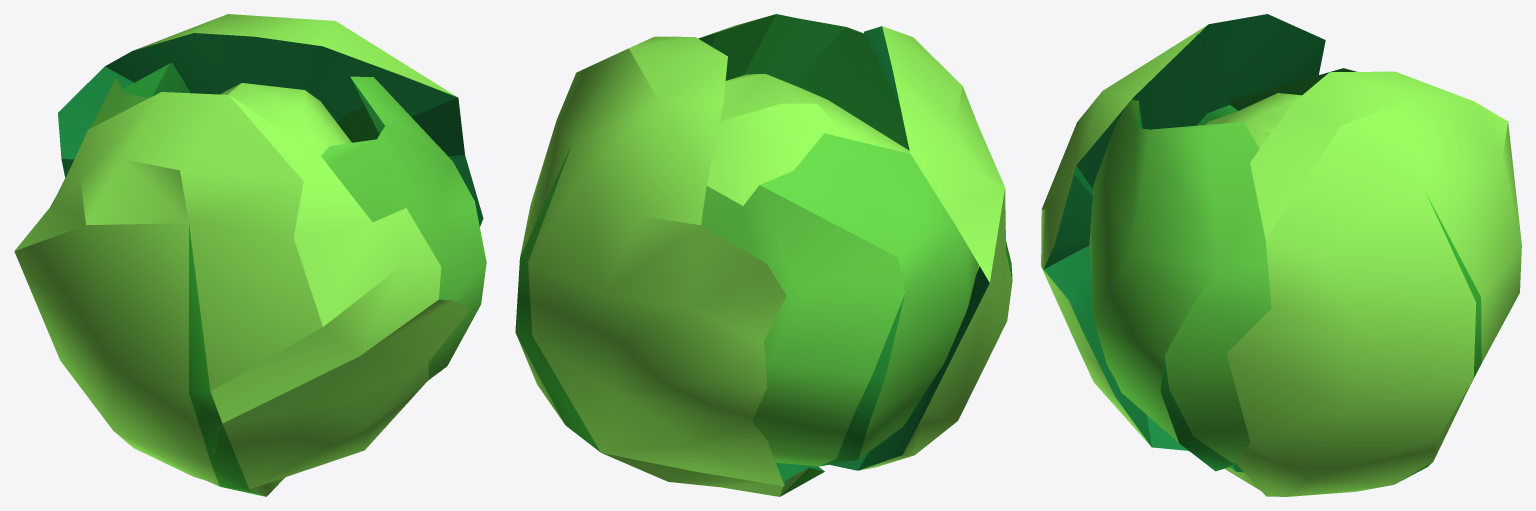
File: Lettuce.fbx
The picture shows the model from 3 angles, left to right: view 1: azimuth 30°, elevation 25°; view 2: azimuth 150°, elevation 25°; view 3: azimuth 270°, elevation 25°; orthographic projection. The views are drawn at different scales.
Visible parts, largest first — view 1: Lettuce; view 2: Lettuce; view 3: Lettuce.
Boxes of the visible parts, box(x1,y1,x2,y2) form: Lettuce: box(14, 14, 486, 496); Lettuce: box(515, 14, 1012, 496); Lettuce: box(1041, 14, 1521, 496).
Size of the model in its own units: 45.61 by 42.93 by 43.78.
